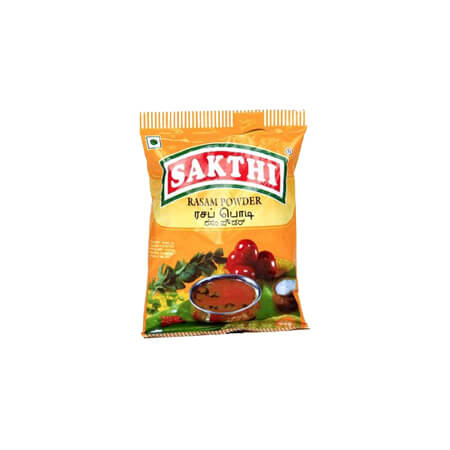VEG: (145, 134, 161, 149)
